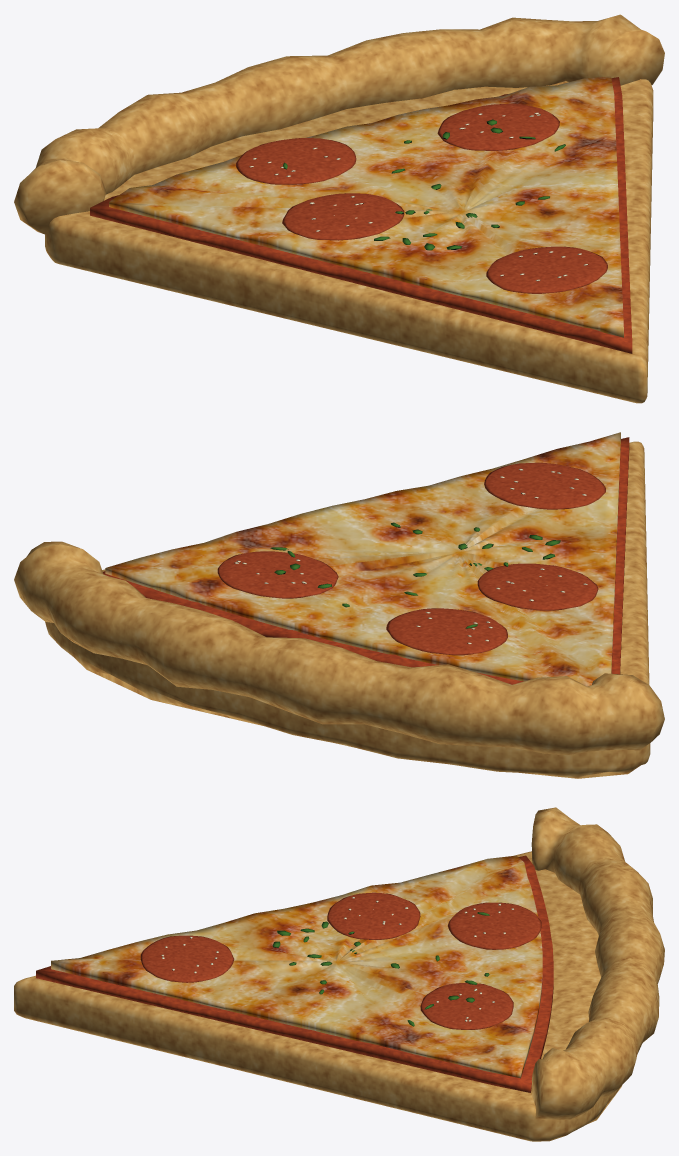
The model's file is pizza.glb.
3 renders of one model, top to bottom at view 1: azimuth 30°, elevation 25°; view 2: azimuth 150°, elevation 25°; view 3: azimuth 270°, elevation 25°, orthographic. The views are drawn at different scales.
Visible parts, largest first — view 1: pizza; view 2: pizza; view 3: pizza.
Part boxes in pixels (x1,y1,x2,y2): pizza: (14, 14, 664, 403); pizza: (14, 432, 664, 778); pizza: (14, 807, 664, 1141).
Size of the model in its own units: 0.1403 by 0.0214 by 0.1394.
Materials: 1 (1 with a texture image).
